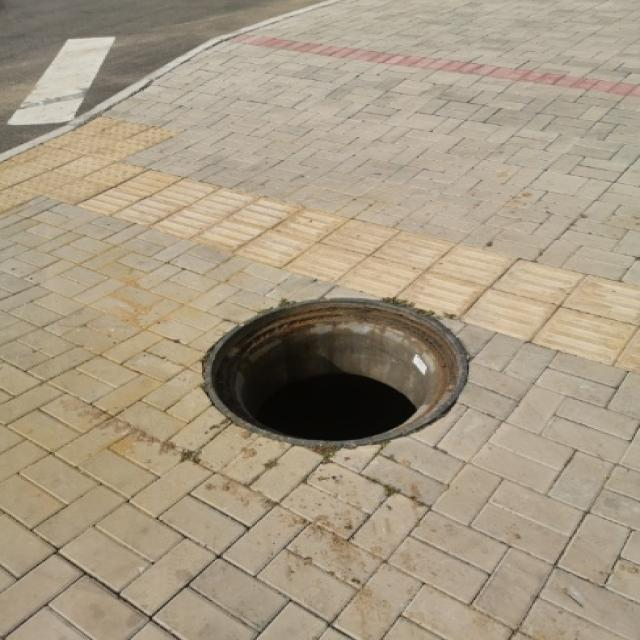Uncovered: (182, 283, 506, 456)
